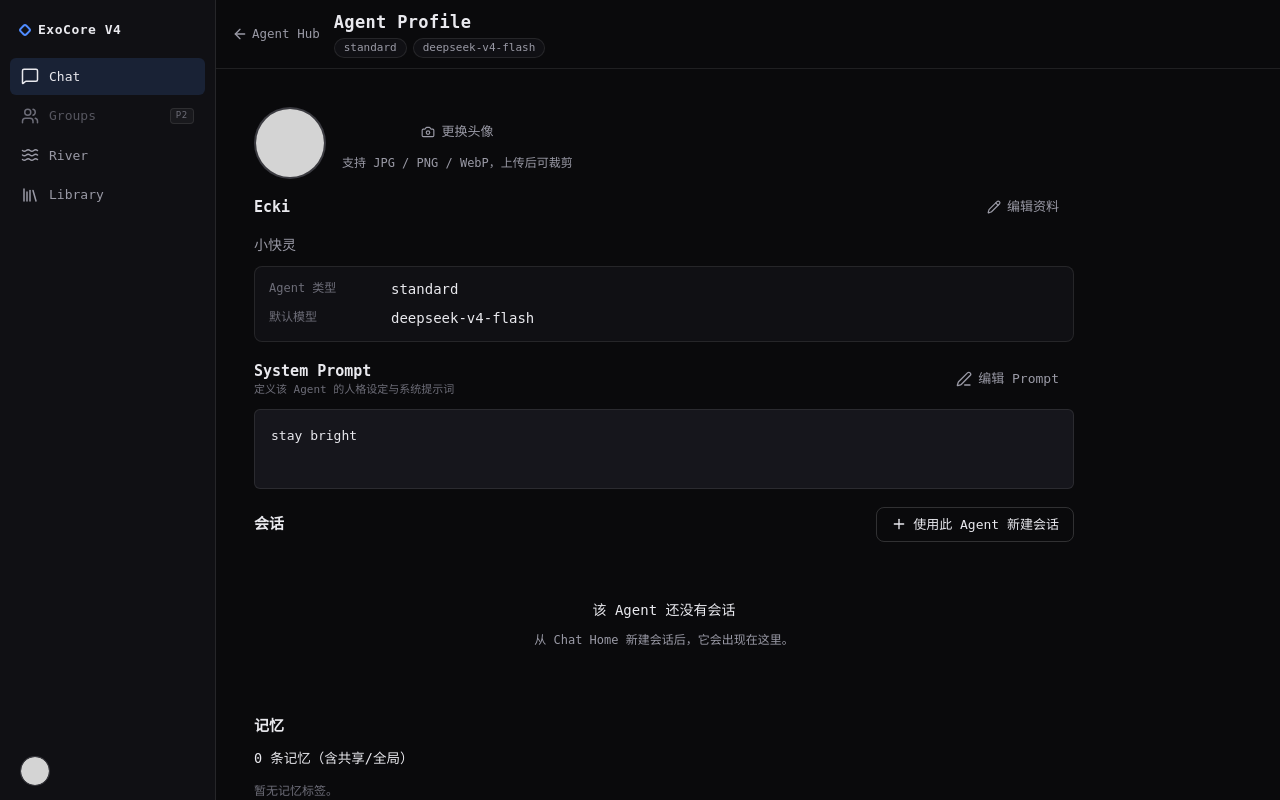
Test: P2A Stage B fixed-Agent creation integration › suppresses late local navigation after close but retains confirmed-success shared refresh
Click the button "使用此 Agent 新建会话".
click(975, 524)  # box [876,506,1074,542]
(page scrolled)
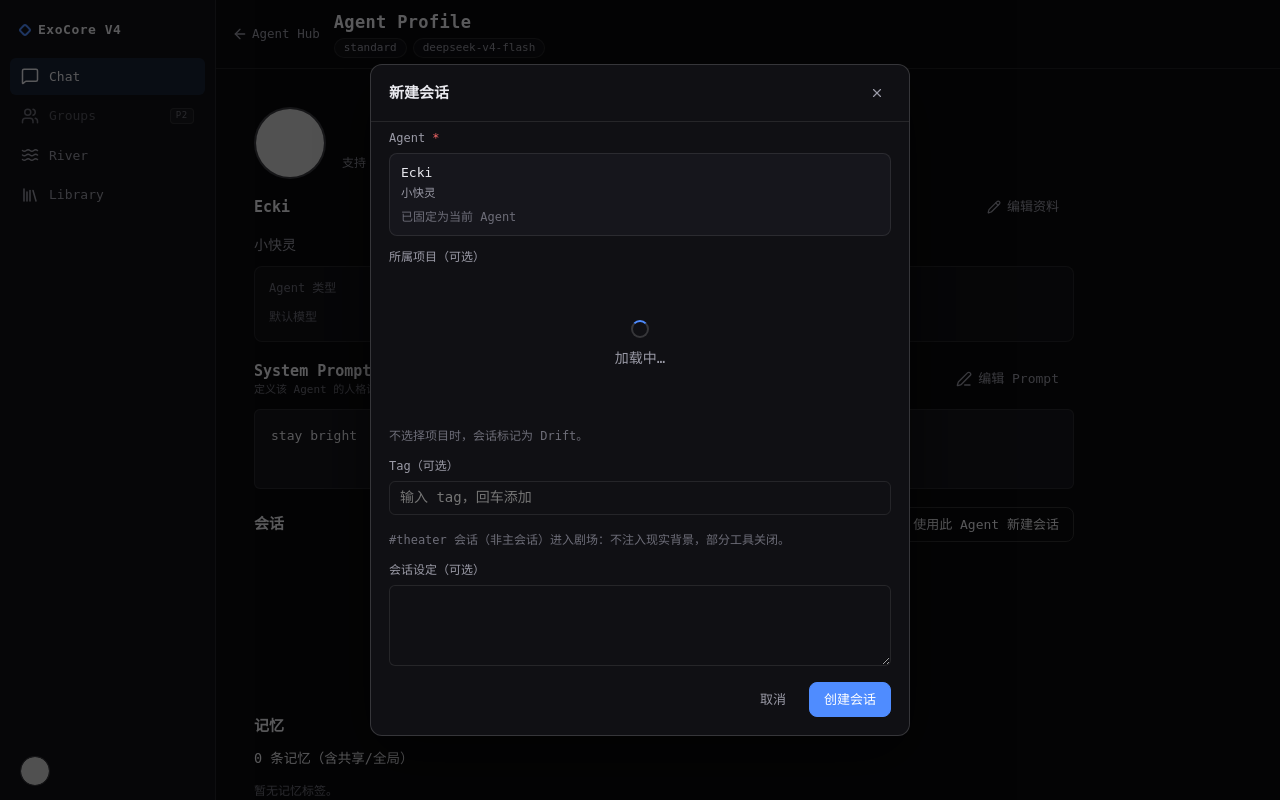
Click the button "创建会话".
click(850, 700)  # box [809,682,891,717]
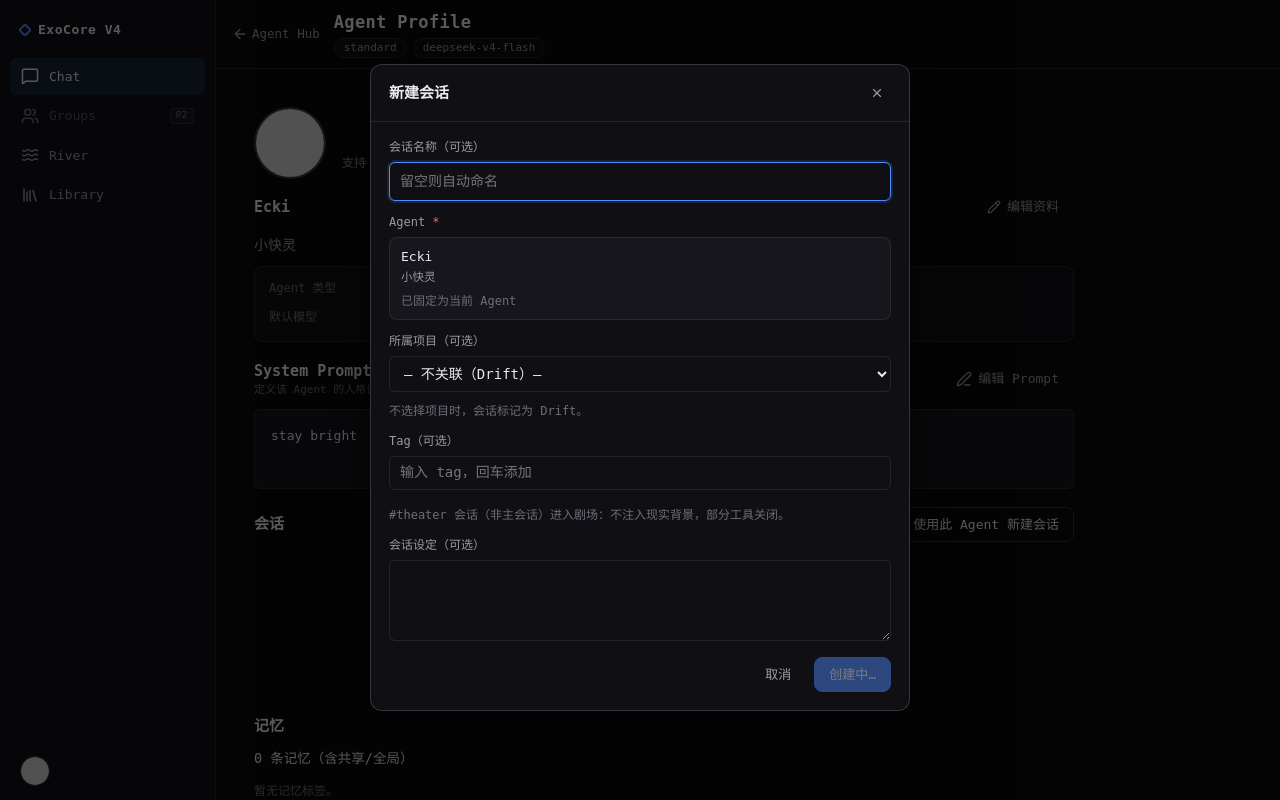
Click the button named "关闭".
click(877, 93)  # box [863,79,891,107]
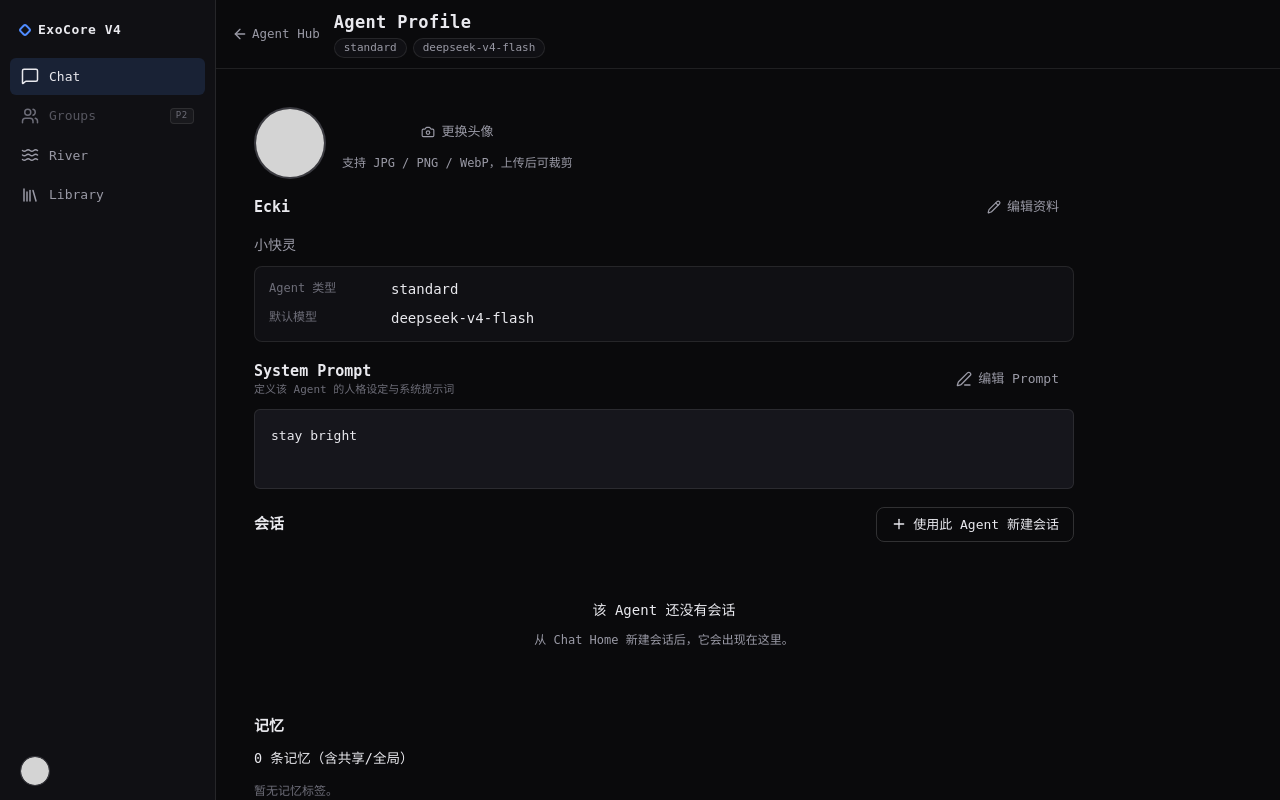
Expected: the heading "Ecki" is shown, [254,196,290,218]
Expected: the dialog is gone
